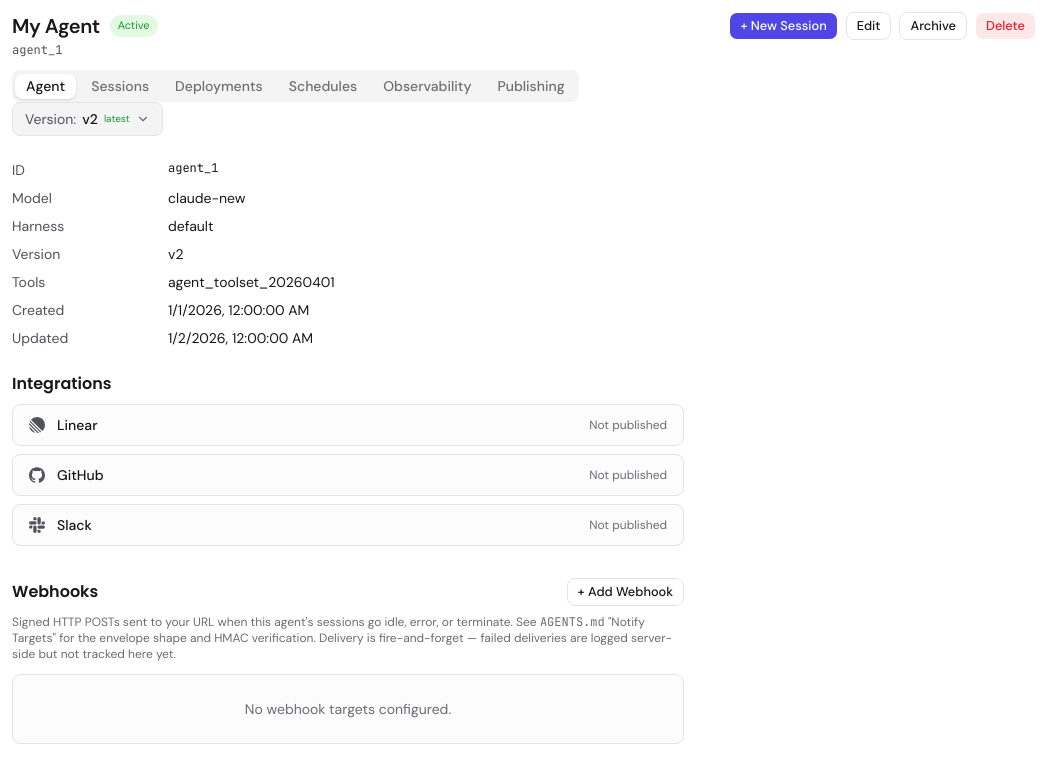
Test: <AgentDetail /> hub layout › navigates to the Deployments tab and shows the No deployments empty state
The image size is (1048, 768).
Expected: the heading "My Agent" is shown, [12,12,100,40]
What coordinates should you click on to do the following:
click the link "Deployments"
I would click on:
 (219, 86)
Its box is [175,77,263,95].
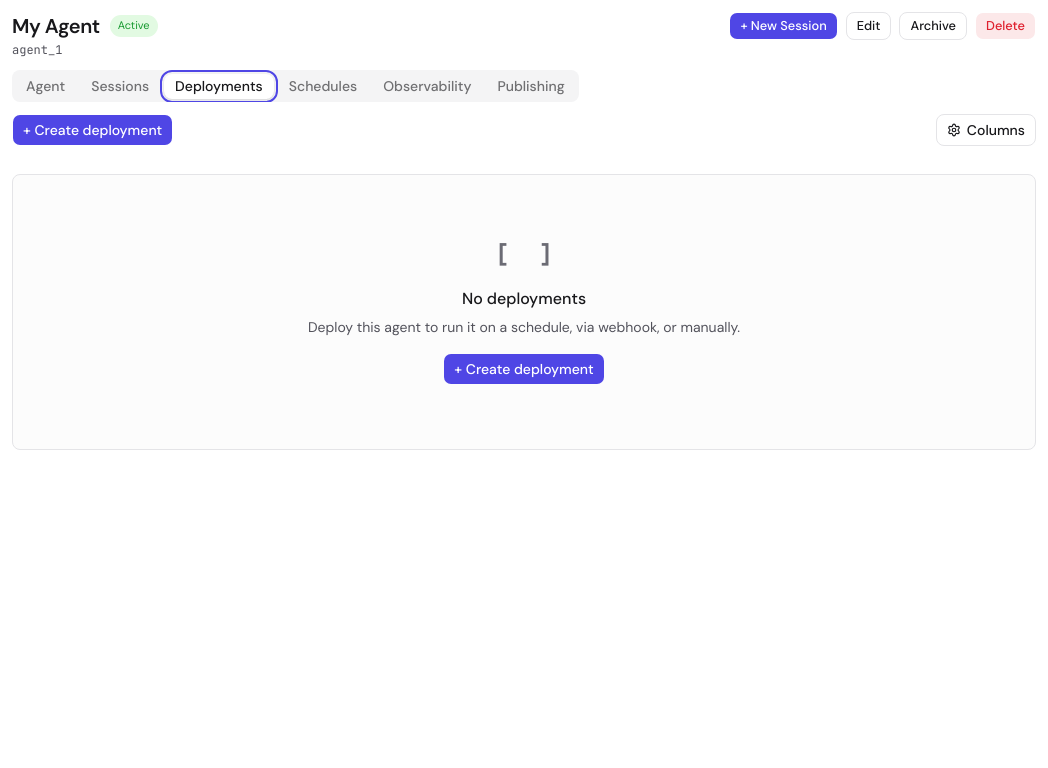
Now the text "No deployments" is shown, box [462,288,586,309]
Now the text "Deploy this agent to run it on a schedule, via webhook, or manually." is shown, box [308,318,740,336]
